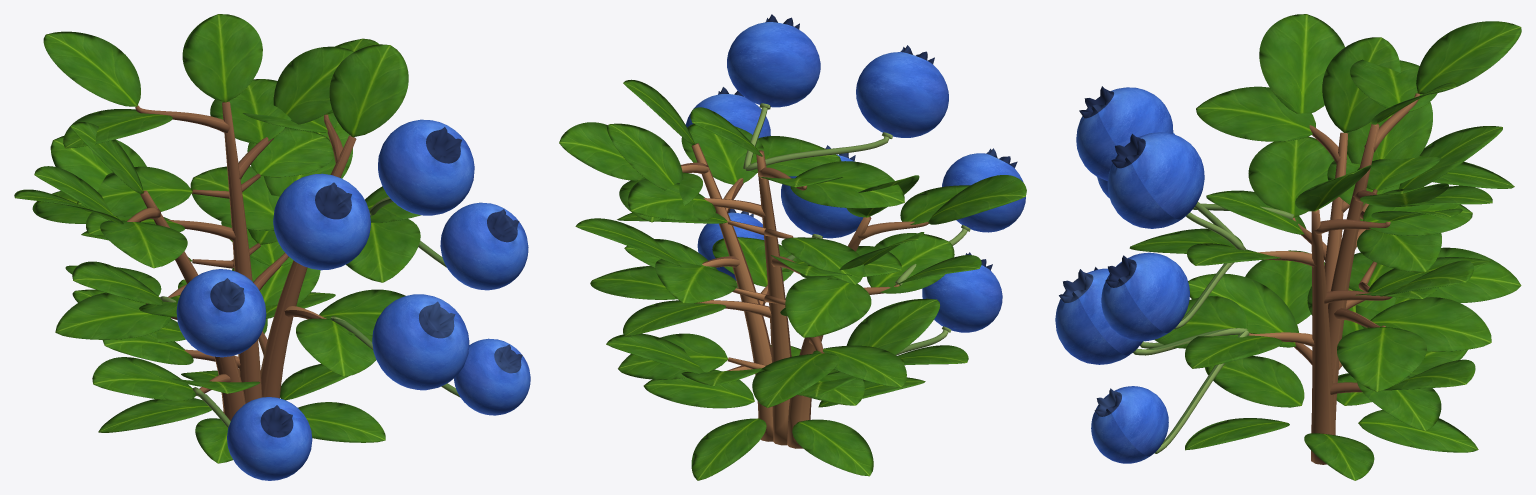
The model's file is NP_Blueberry_Ready.fbx.
3 renders of one model, left to right at view 1: azimuth 30°, elevation 25°; view 2: azimuth 150°, elevation 25°; view 3: azimuth 270°, elevation 25°, orthographic. The views are drawn at different scales.
Visible parts, largest first — view 1: NP_Blueberry_Ready; view 2: NP_Blueberry_Ready; view 3: NP_Blueberry_Ready.
Boxes of the visible parts, bbox=[...] form: NP_Blueberry_Ready: bbox=[14, 14, 530, 480]; NP_Blueberry_Ready: bbox=[559, 14, 1026, 480]; NP_Blueberry_Ready: bbox=[1055, 14, 1521, 480].
Size of the model in its own units: 97.04 by 80.65 by 89.26.
